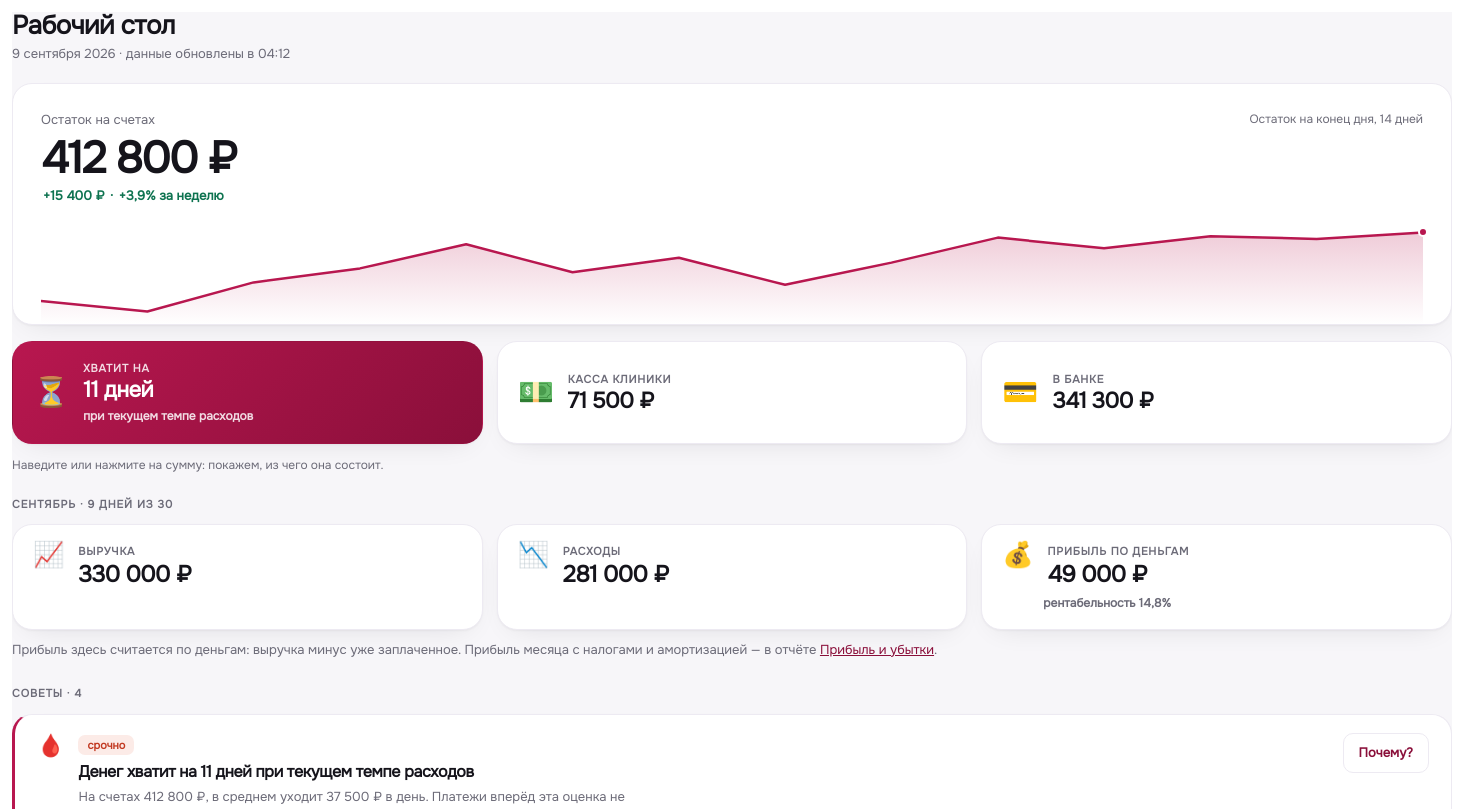
Test case: DashboardPage: tips › opens the tip of the total with accounts, note and sources from the API
Expected: the element with test id "balance-hero" is shown, [12,83,1452,325]
Step 1. Click the button with test id "figure-tip-trigger" showing "Остаток на счетах 412 800 ₽" → (139, 147), box [41,110,236,184]
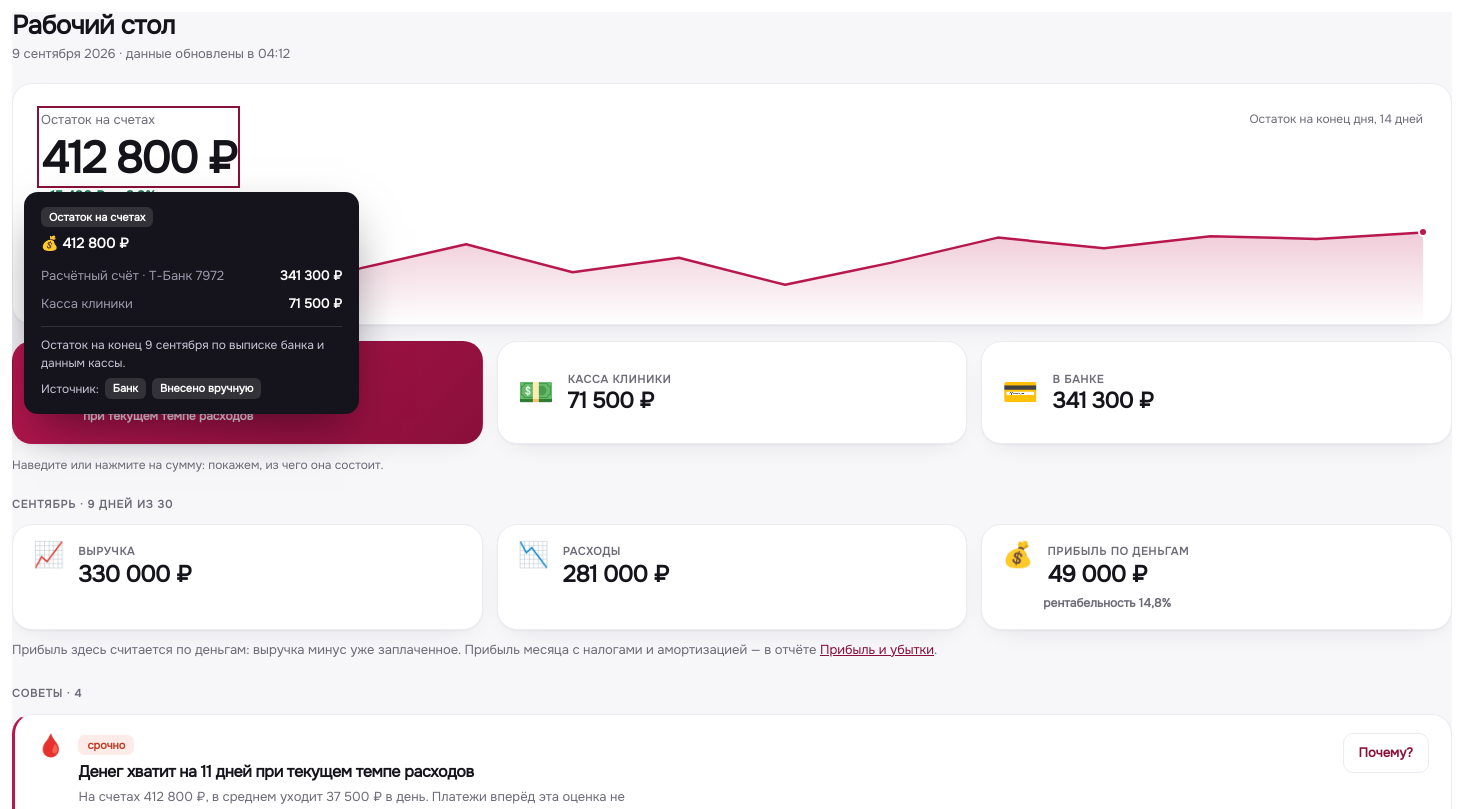
Expected: the tooltip with test id "figure-tip" shows "Расчётный счёт · Т-Банк 7972", [41,268,224,284]
Expected: the tooltip with test id "figure-tip" shows "Банк", [113,382,138,396]
